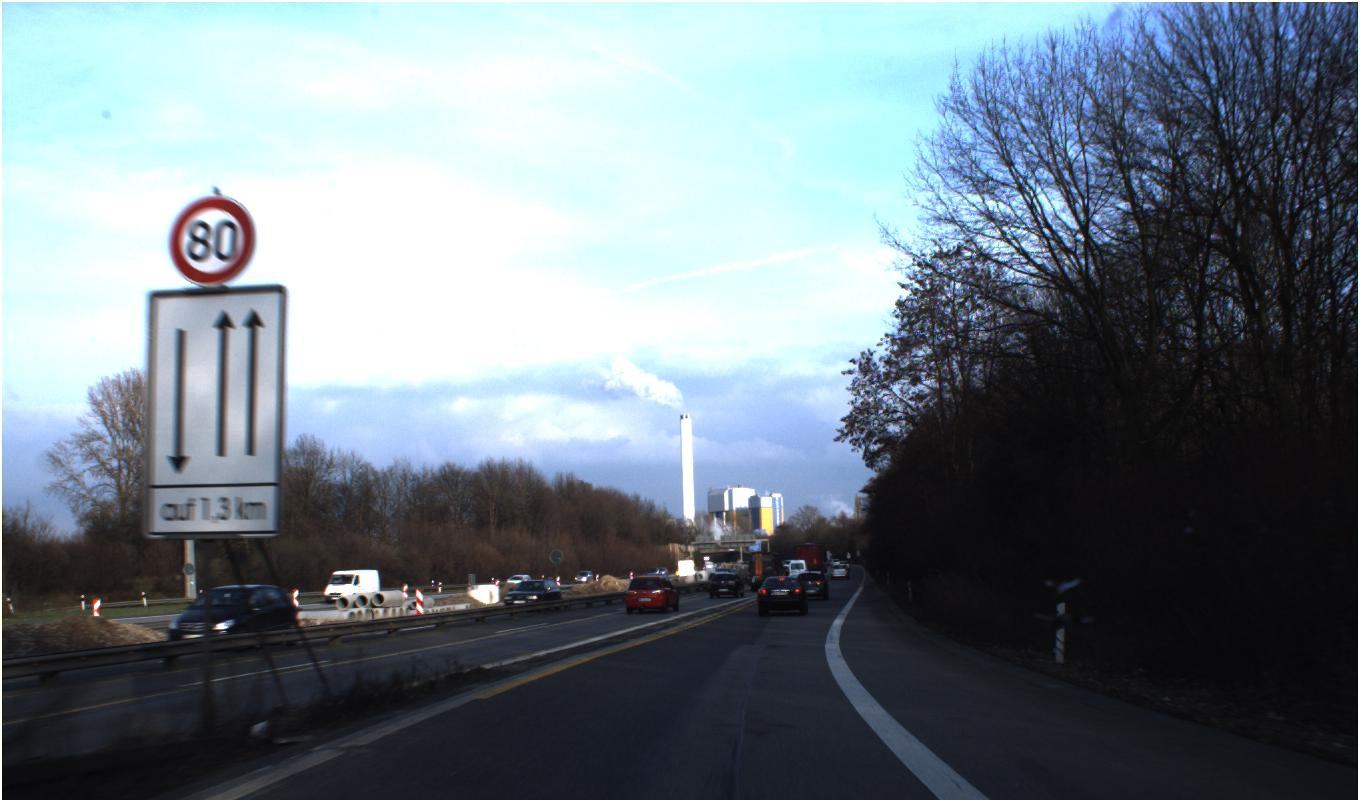prohibitory: (167, 194, 257, 286)
